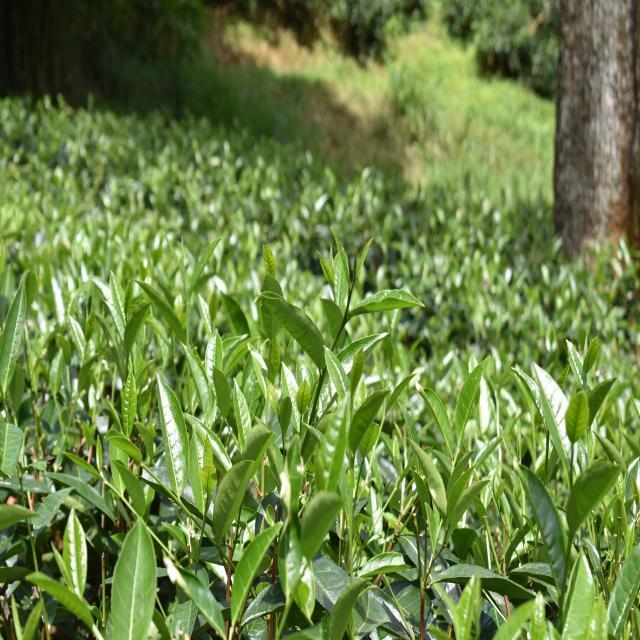Stem: (347, 294, 352, 304), (451, 461, 456, 471)
